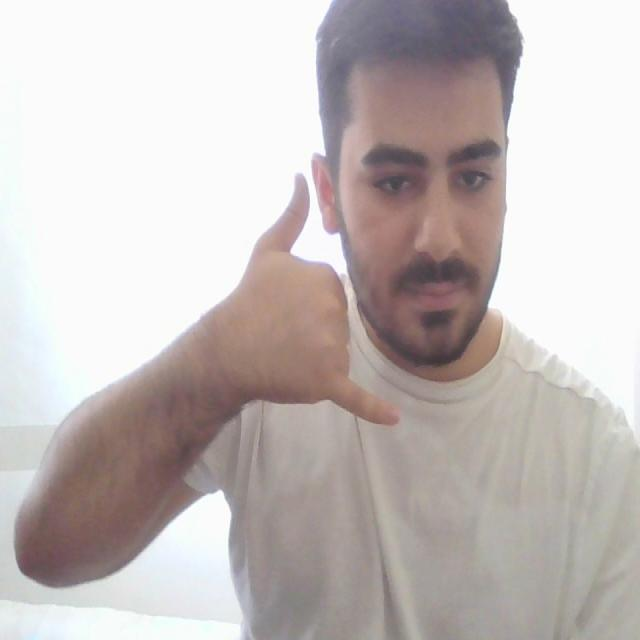Telefon: (247, 169, 403, 431)
